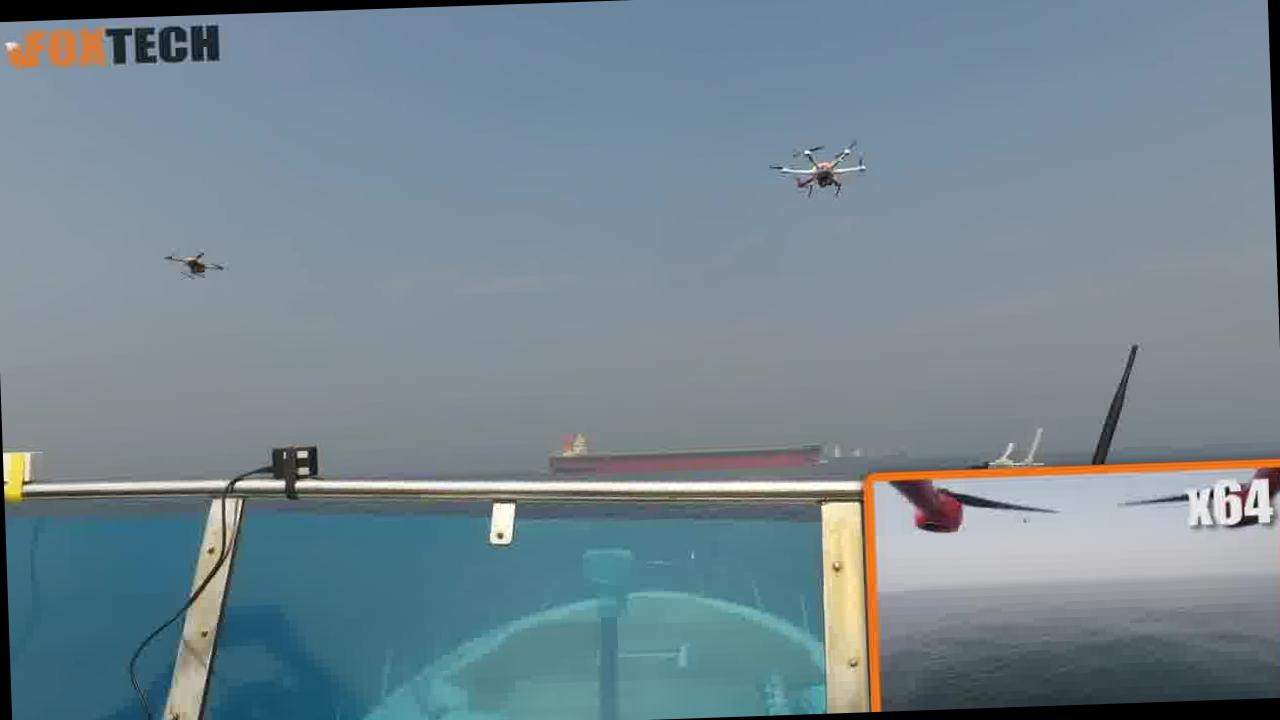drone: (768, 122, 882, 210), (152, 240, 235, 288)
